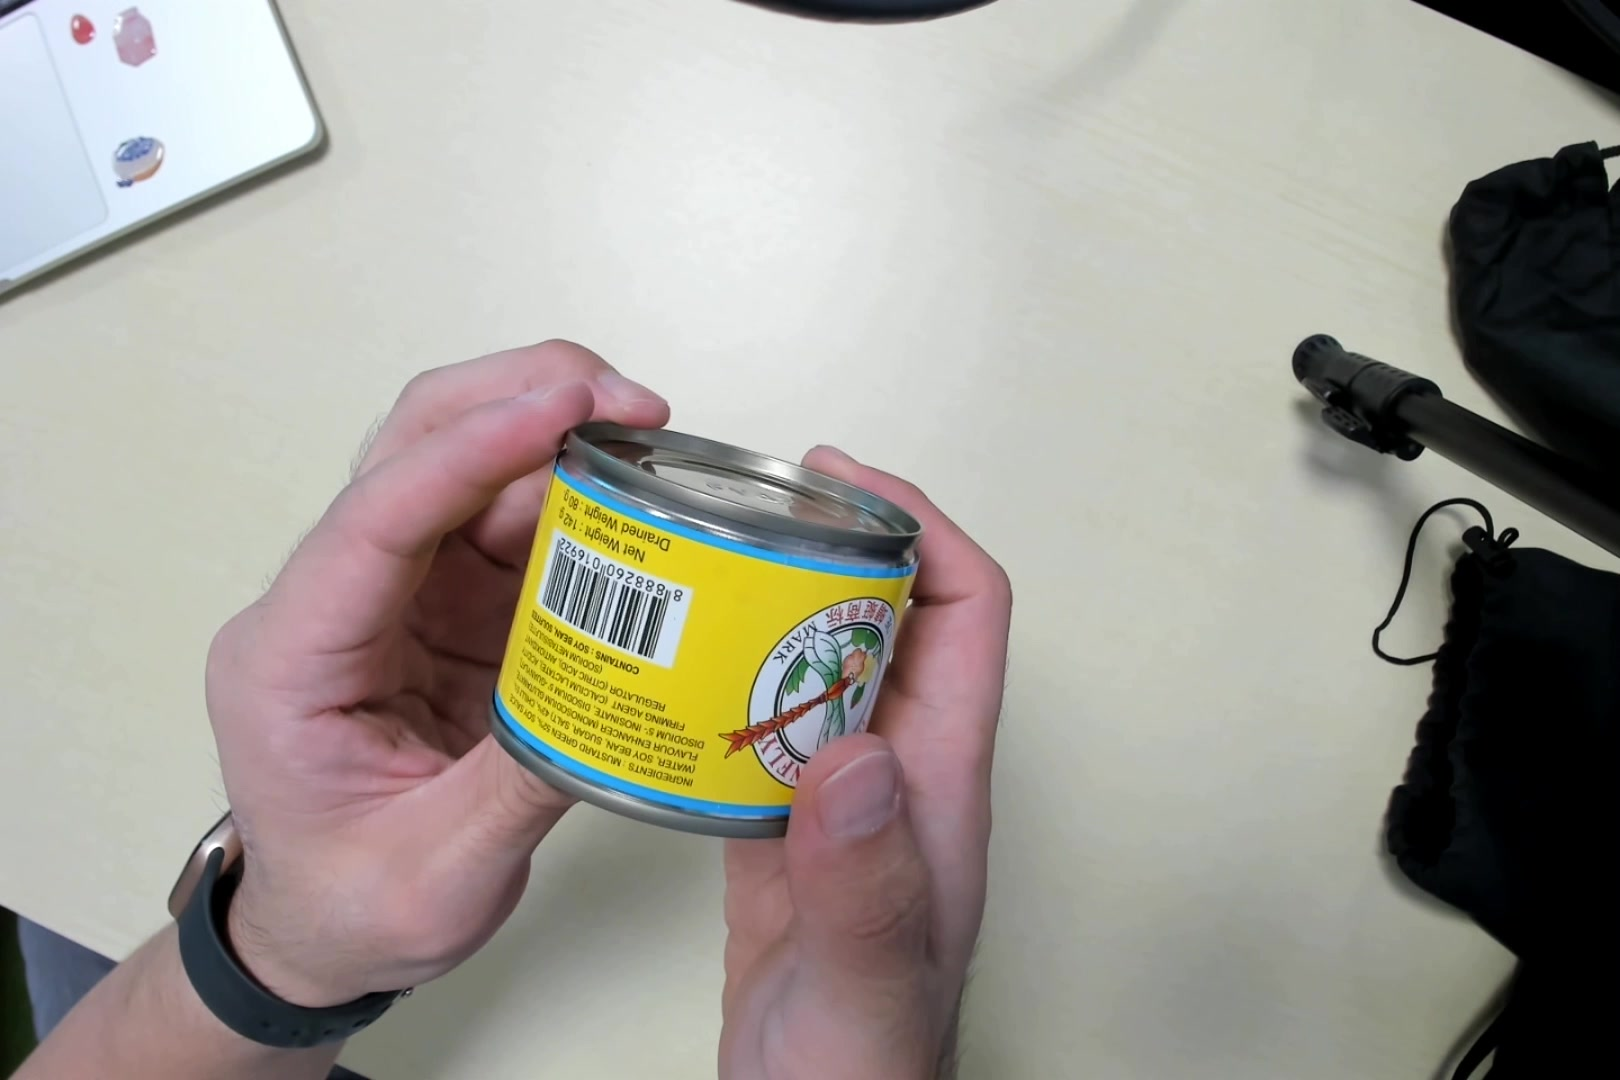CannedFruitsCocktail_0-99g_Halal_NonHealthy: (501, 442, 912, 824)
